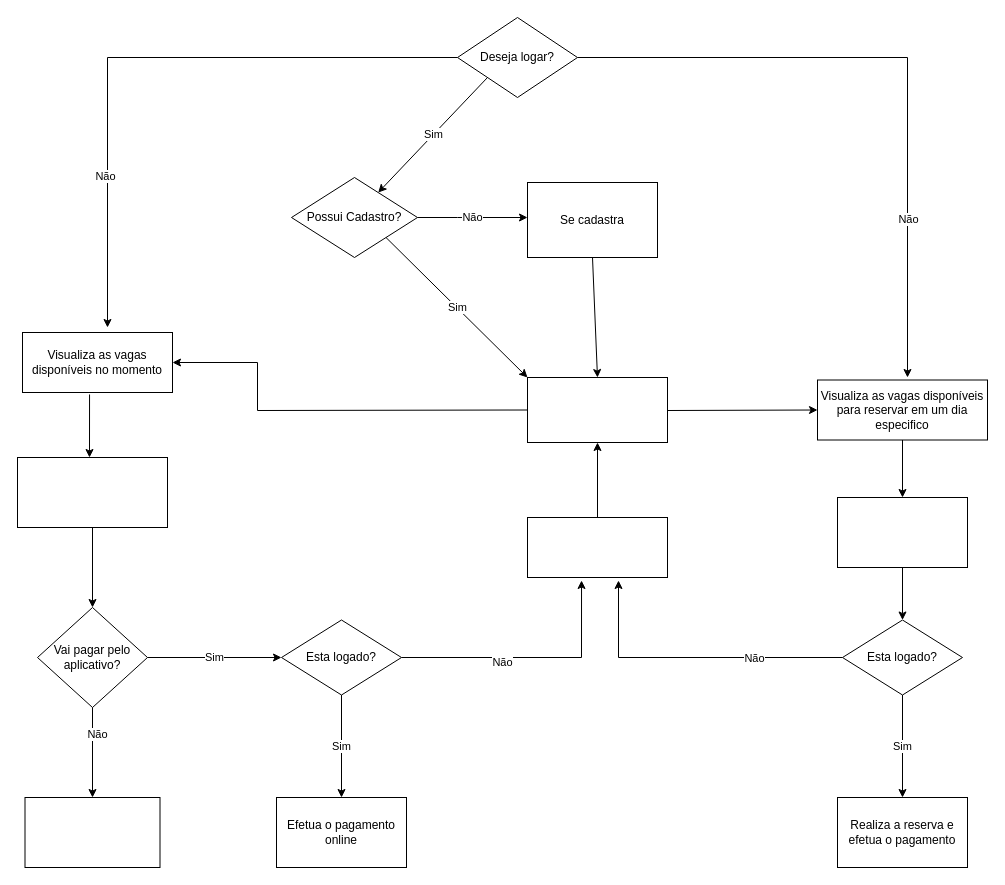
This 1005x885 diagram has some shape labels left out. Each missing label, with the centre of its shape:
"Exibe a mensagem referente a necessidade do login" belongs at [597,547].
"Login" belongs at [597,409].
"Recepcionista faz a baixa do pagamento pelo Sistema Web" belongs at [92,832].
"Se desloca até o estacionamento para realizar o aluguel da vaga" belongs at [92,492].
"Seleciona uma vaga para reservar" belongs at [902,532].
